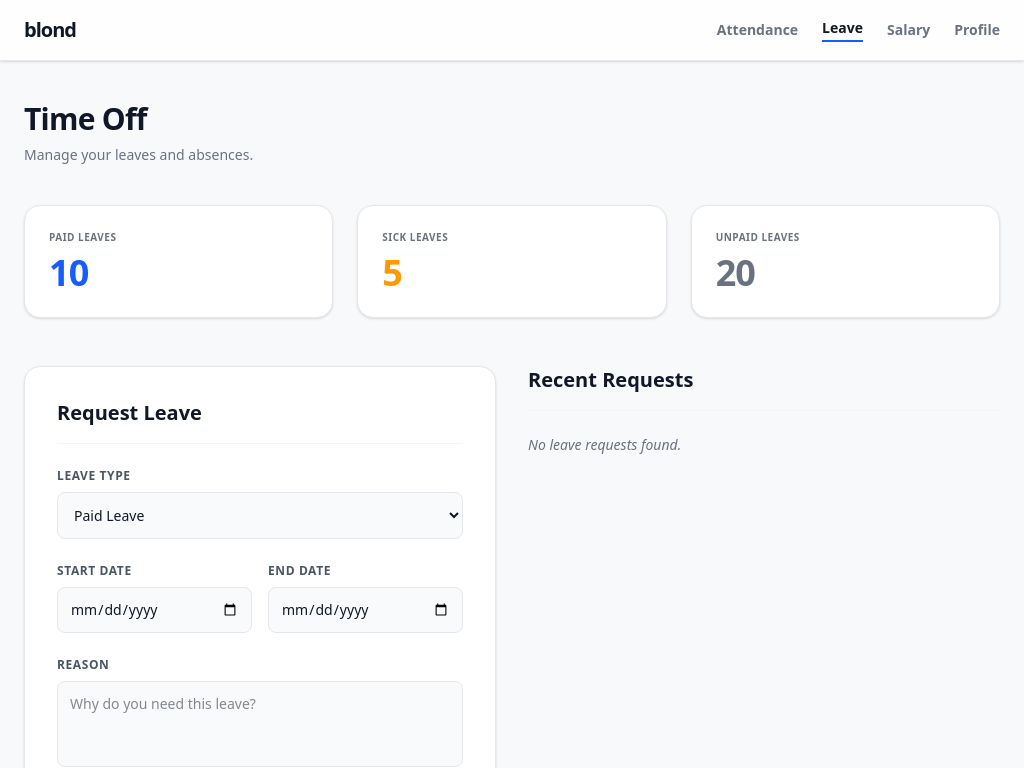
Test: LeaveManagement › handles successful leave application
Note: Fill the form
Select "Paid Leave" in the dropdown labelled "Leave Type": (260, 516) [57,492,463,539]
In the date field labelled "Start Date": (154, 610) [57,587,252,633], type "2026-09-01"
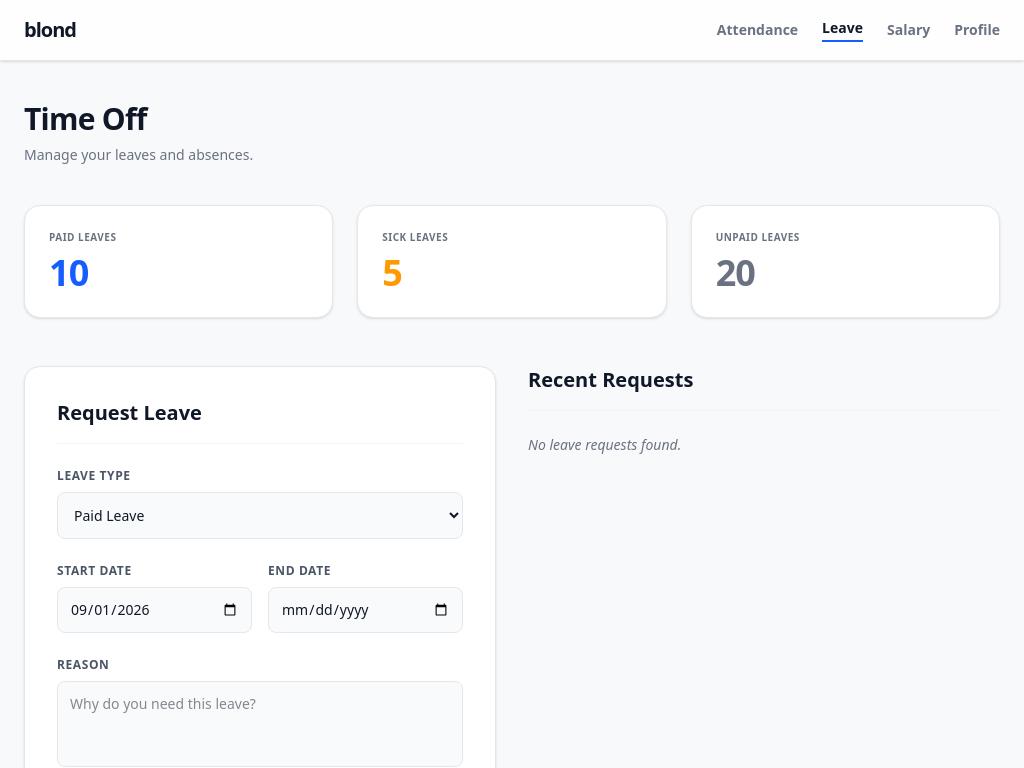
In the date field labelled "End Date": (366, 610) [268,587,463,633], type "2026-09-02"
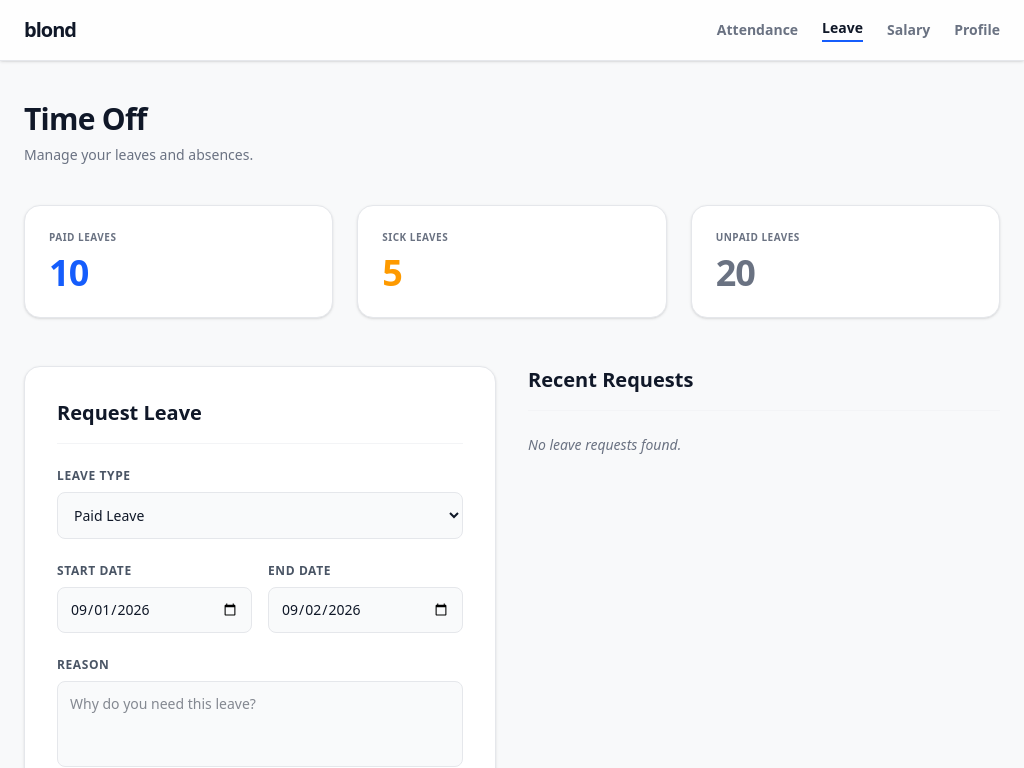
In the text box labelled "Reason": (260, 724) [57,681,463,767], type "Vacation"
(page scrolled)
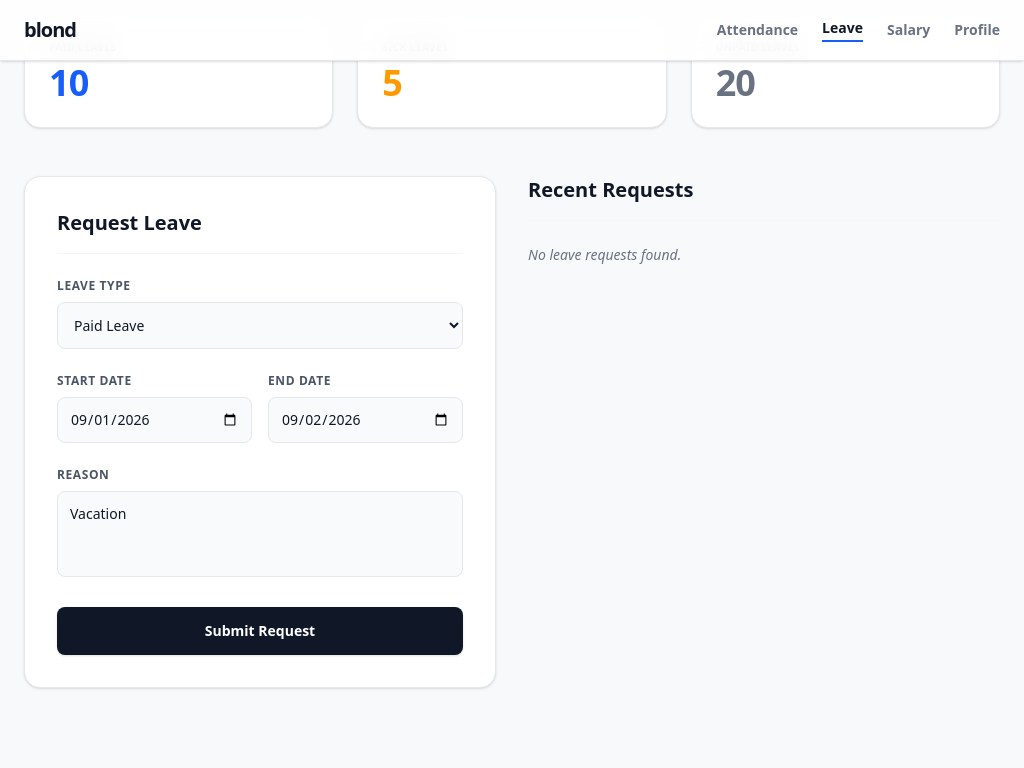
Click the button "Submit Request": (260, 631) [57,607,463,655]
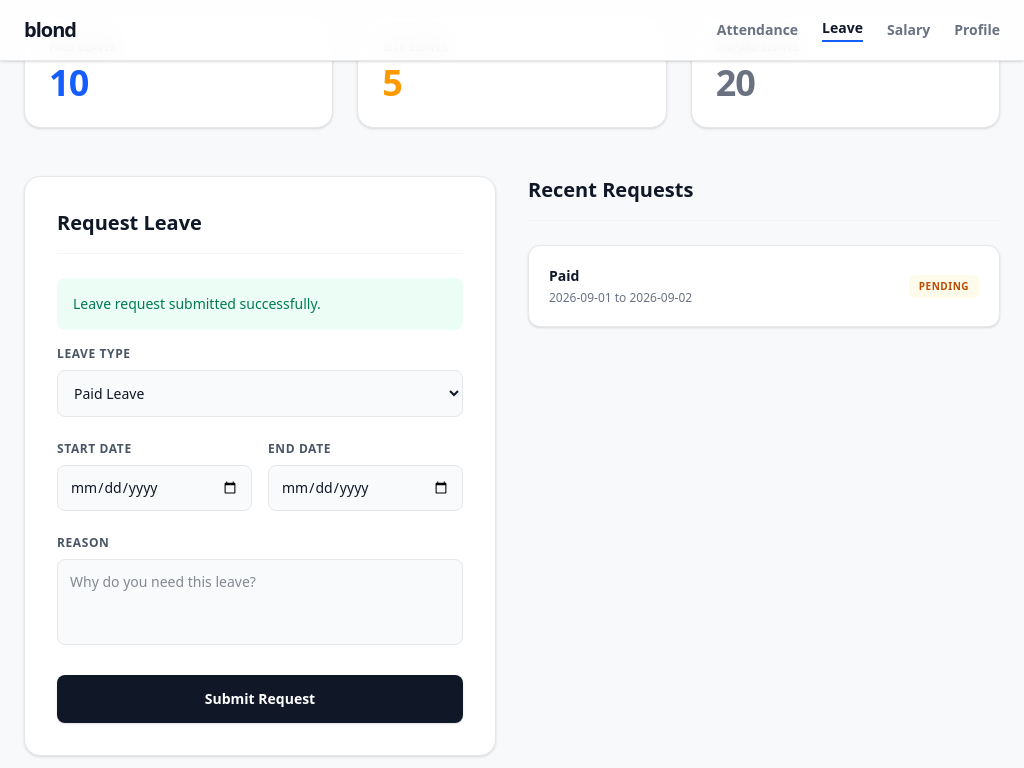
Expected: the text "Leave request submitted successfully." is shown, [57,278,463,330]
Expected: the text "2026-09-01 to 2026-09-02" is shown, [549,290,692,306]
